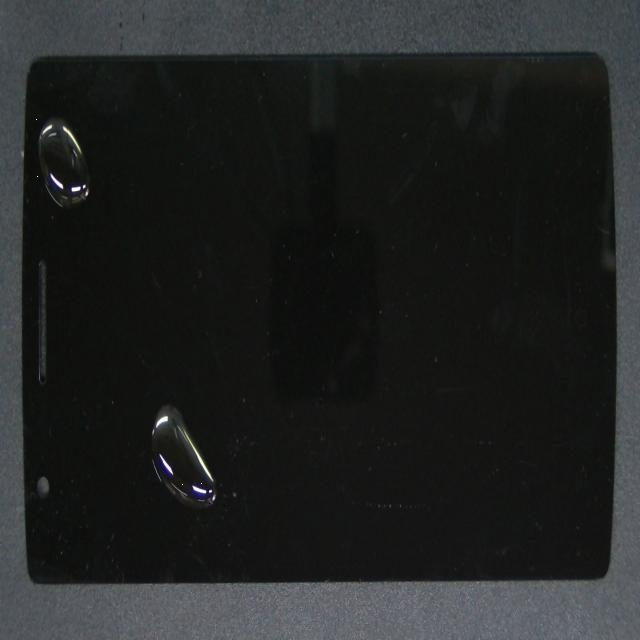oil: (103, 214, 267, 619), (16, 32, 55, 205)
